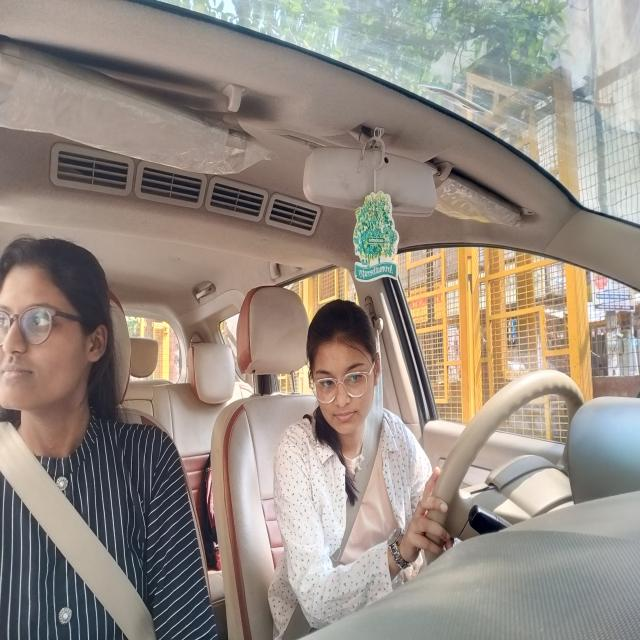person: (0, 217, 119, 470), (284, 292, 410, 456)
